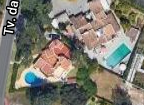pool: (112, 46, 124, 66), (26, 73, 40, 83)
